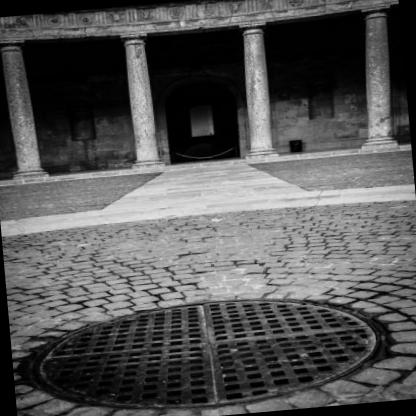manholes: (9, 266, 407, 416)
